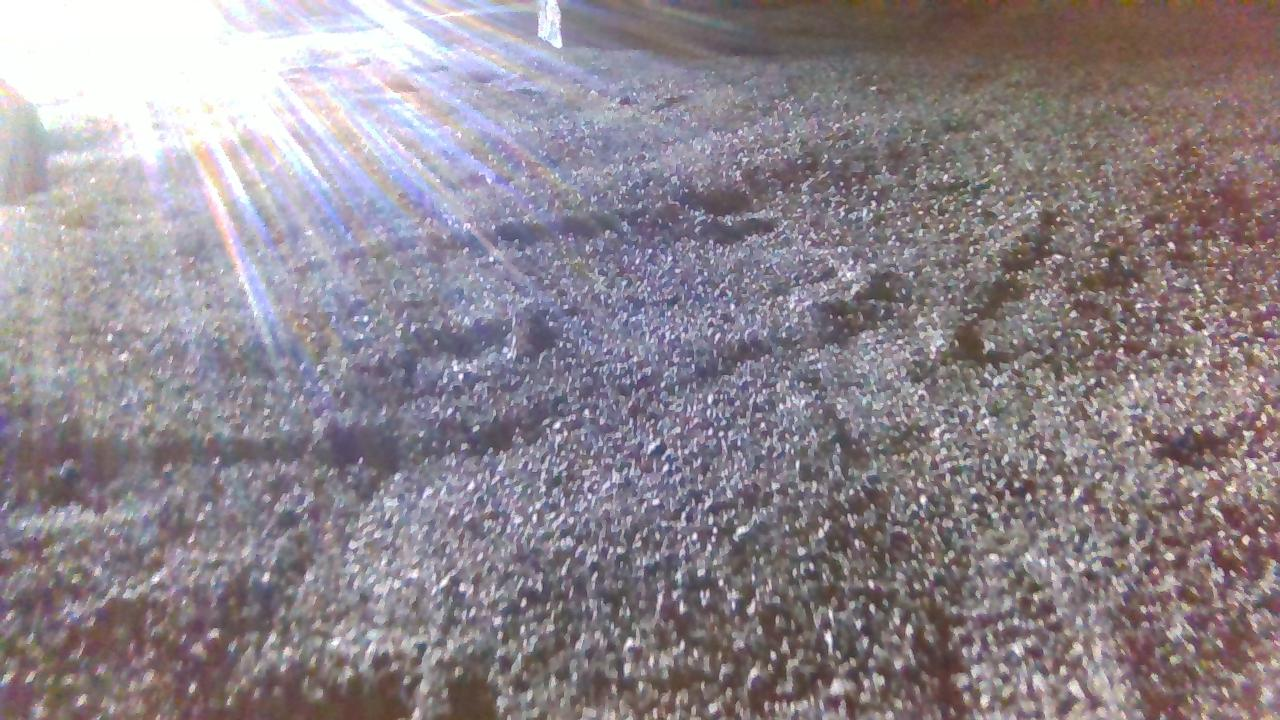rock: (538, 0, 562, 49)
